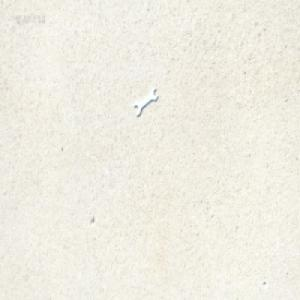Wrench: (132, 87, 158, 117)
